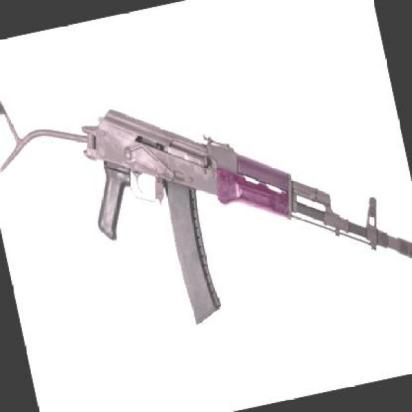Gun: (4, 106, 412, 325)
